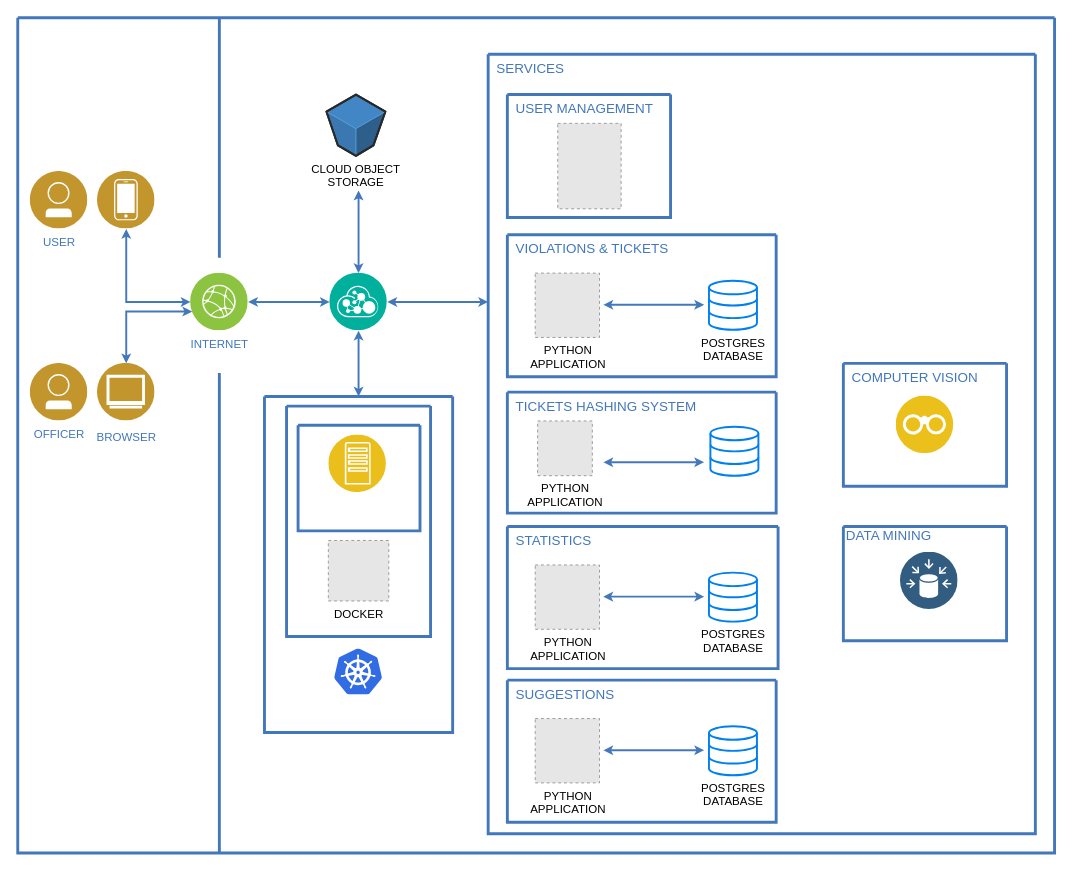
This 1072x871 diagram has some shape labels left out. Grey dashed boxes stand in for pictures. Each missing label, with the centre of its shape:
IBM CLOUD: [358,301]
IBM DISCOVERY: [929,580]
IBM WATSON: [924,424]
KUBERNETES: [358,671]
MOBILE DEVICE: [126,199]
READ-ONLY DATABASE: [734,450]
WEB SERVER: [357,463]
